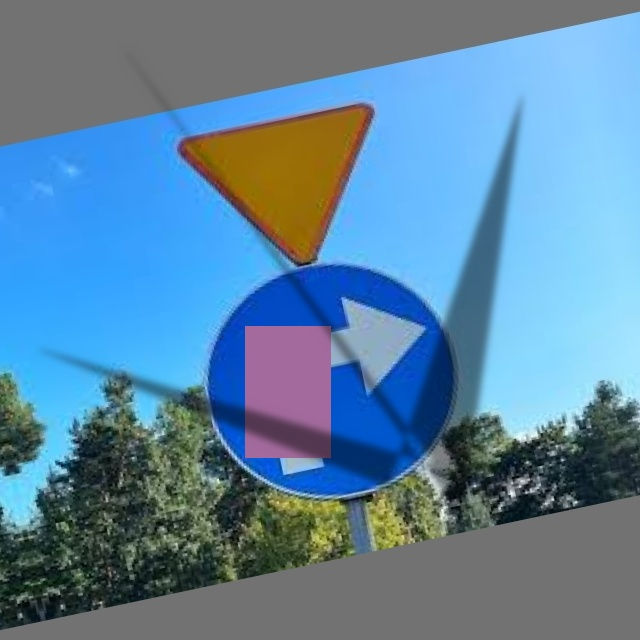Compulsory_Turn_Right_Ahead: (186, 242, 478, 516)
